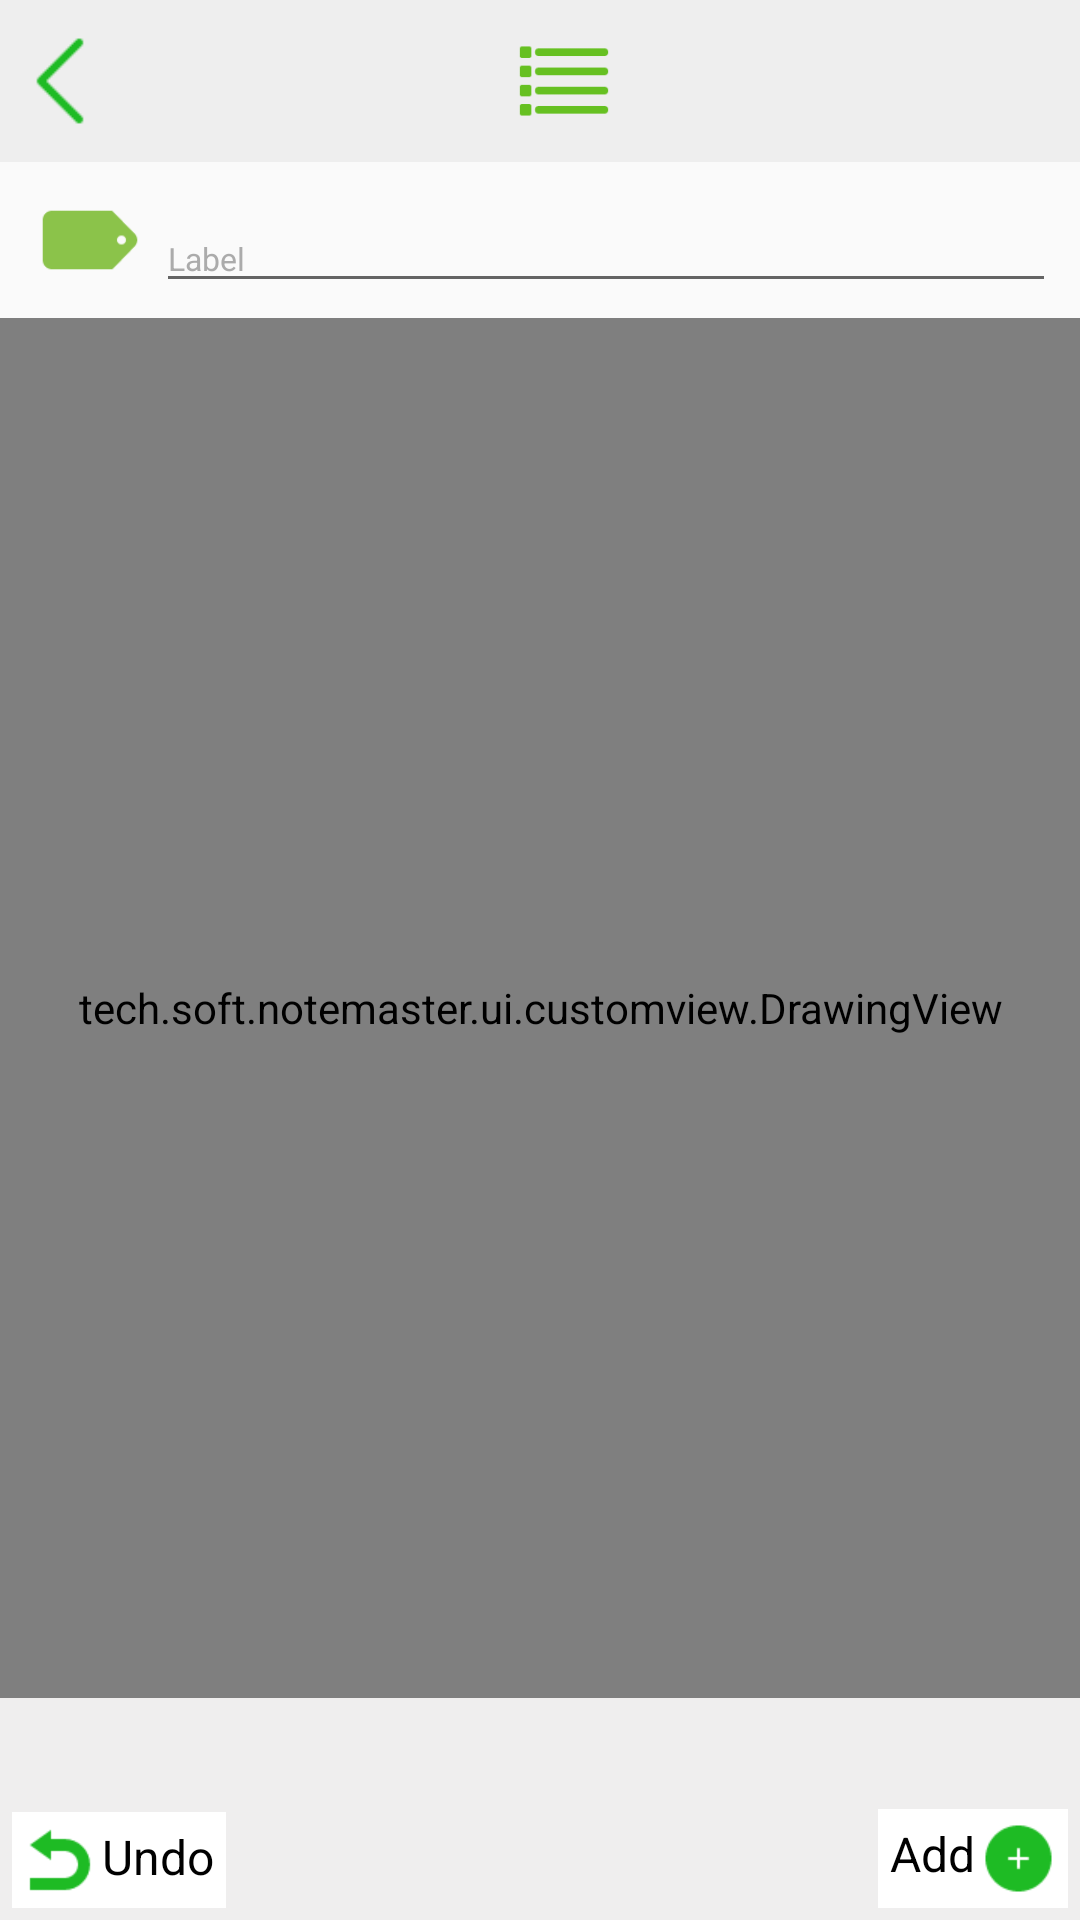

Point at icon controls on the screen. Image size 1080*1920, points as point (x, y).
back: point (60, 81)
